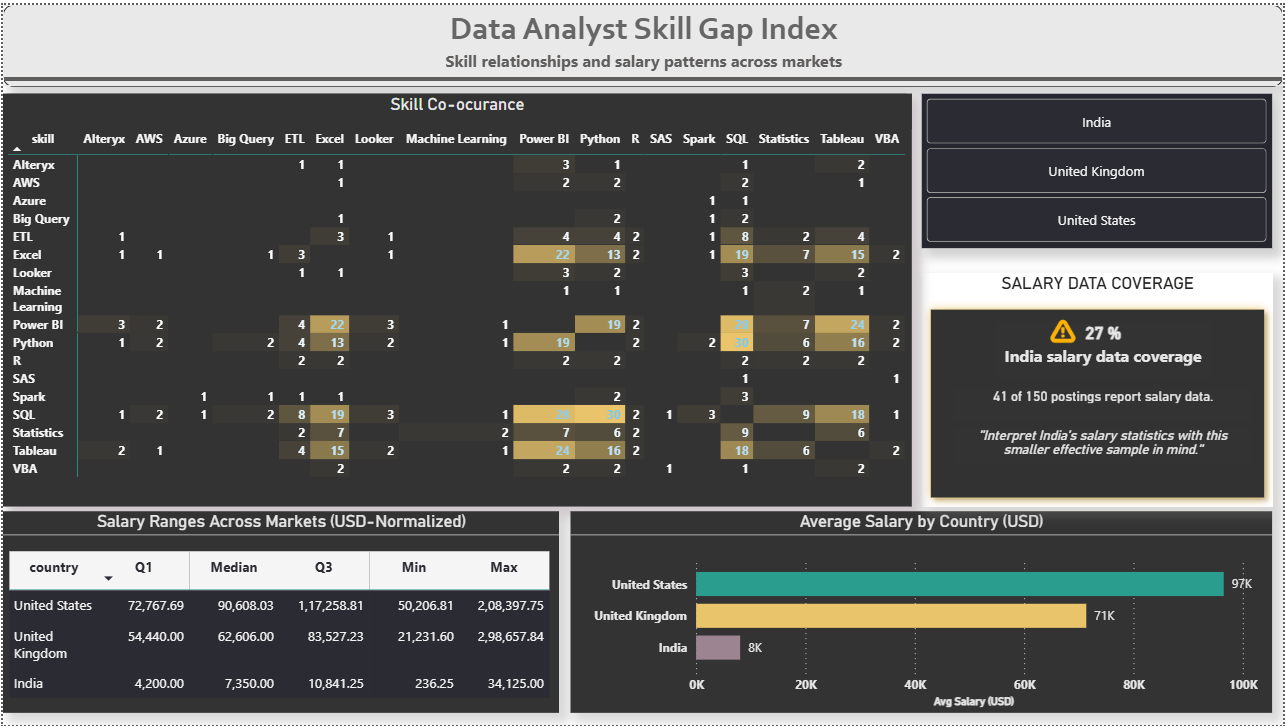

The dashboard page shown, as its layout file describes it:
{"tool":"powerbi","page":{"name":"Skills & Salary Deep Dive","canvas":[1280,720],"ordinal":1},"visuals":[{"type":"textbox","title":"Data Analyst Skill Gap Index","box":[0,0,1280,81.2],"z":0},{"type":"pivotTable","title":"Skill Co-ocurance","fields":{"Columns":["Skills_Column.skill"],"Rows":["Skills_Row.skill"],"Values":["jobs_skills.Skill Co-occurrence"]},"box":[0,88.6,908.6,412.9],"z":1000},{"type":"tableEx","title":"Salary Ranges Across Markets (USD-Normalized)","fields":{"Values":["jobs.country","jobs.Pencentile 25","jobs.50th Percentile","jobs.75th Percentiale","jobs.Min","jobs.Max"]},"box":[0,505.7,556.4,201.8],"z":2000},{"type":"clusteredBarChart","title":"Average Salary by Country (USD)","fields":{"Category":["jobs.country"],"Y":["Avg(jobs.avg_salary_usd)"]},"box":[567.1,505.7,701.4,201.4],"z":3000},{"type":"shape","title":"SALARY DATA COVERAGE","box":[918.6,267.1,351.4,234.3],"z":4000},{"type":"textbox","title":"27 %","box":[992.9,317.1,215.2,55],"z":5000},{"type":"textbox","title":"41 of 150 postings report salary data.","box":[951.4,384.3,297.1,31.8],"z":6000},{"type":"textbox","title":"\"Interpret India''s salary statistics with this smaller effective sample in mind.\"","box":[951.4,422.9,297.1,35.7],"z":7000},{"type":"image","box":[1038.6,307.1,42.7,37.3],"z":8000},{"type":"advancedSlicerVisual","fields":{"Values":["jobs.country"]},"box":[918.6,88.6,350,154.3],"z":8001}]}

Visuals, with their boxes in screenshot pixels (x1, y1, x2, y2), scaled from the page's 1280x720 canvas onto the 1286x727 screenshot:
"Data Analyst Skill Gap Index" textbox: (0, 0, 1285, 82)
"Skill Co-ocurance" pivotTable: (0, 89, 913, 506)
"Salary Ranges Across Markets (USD-Normalized)" tableEx: (0, 511, 559, 714)
"Average Salary by Country (USD)" clusteredBarChart: (570, 511, 1274, 714)
"SALARY DATA COVERAGE" shape: (923, 270, 1276, 506)
"27 %" textbox: (998, 320, 1214, 376)
"41 of 150 postings report salary data." textbox: (956, 388, 1254, 420)
""Interpret India''s salary statistics with this smaller effective sample in mind."" textbox: (956, 427, 1254, 463)
image: (1043, 310, 1086, 348)
advancedSlicerVisual - jobs.country: (923, 89, 1275, 245)
